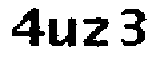3: (121, 2, 149, 51)
4: (8, 5, 46, 50)
u: (47, 14, 80, 53)
z: (81, 15, 114, 50)
